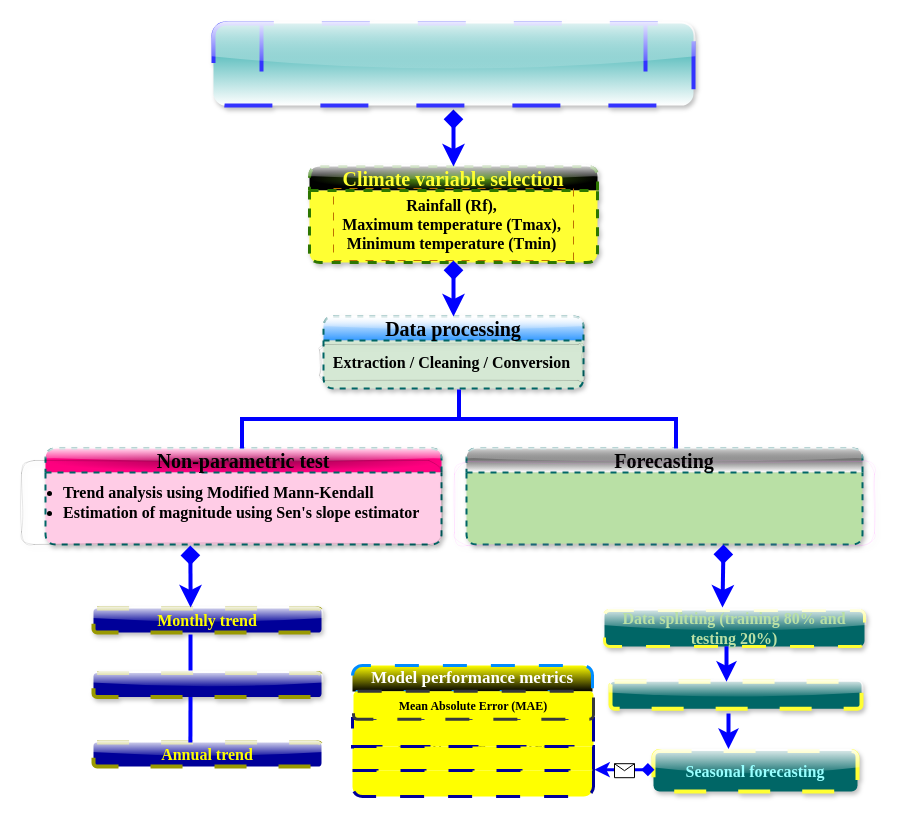
Some shapes in this 897 by 817 pixel diagram are drawn without their labels. The shapes that lost their labels are listed below. From the top down, each one's centre as x and y in pixels, then its label:
point 454,65: Gridded climate data 1972-2024 (53 years) From Indian Meteorological Department
point 665,504: From 2025-2054 (30 years) Using hybrid deep learning algorithm CNN-LSTM
point 208,686: Seasonal trend
point 736,696: Predicting (from observed data)
point 472,732: Mean Absolute Percentage Error (MAPE)
point 472,758: Root Mean Square Error (RMSE)
point 472,783: Coefficient of Correlation (R 2 )
